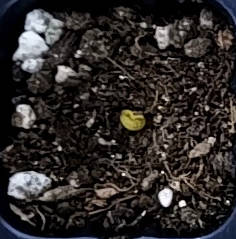chilli seed: (120, 110, 145, 130)
